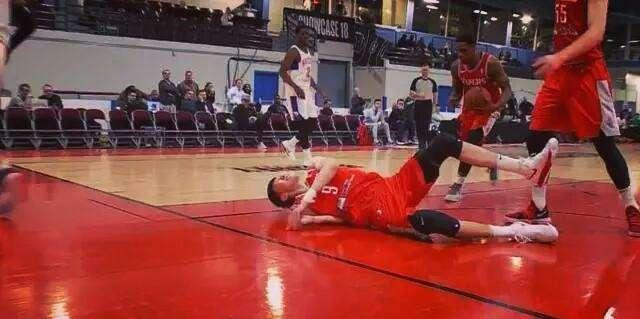10+: (1, 1, 640, 255)
down: (255, 129, 574, 255)
